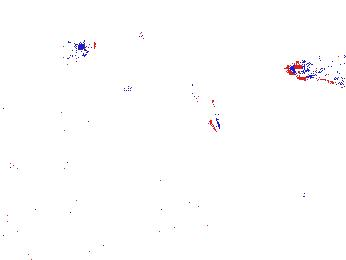glassfish: (181, 67, 226, 142)
redtail glassfish: (285, 53, 346, 83), (103, 33, 139, 55), (74, 36, 98, 56)
